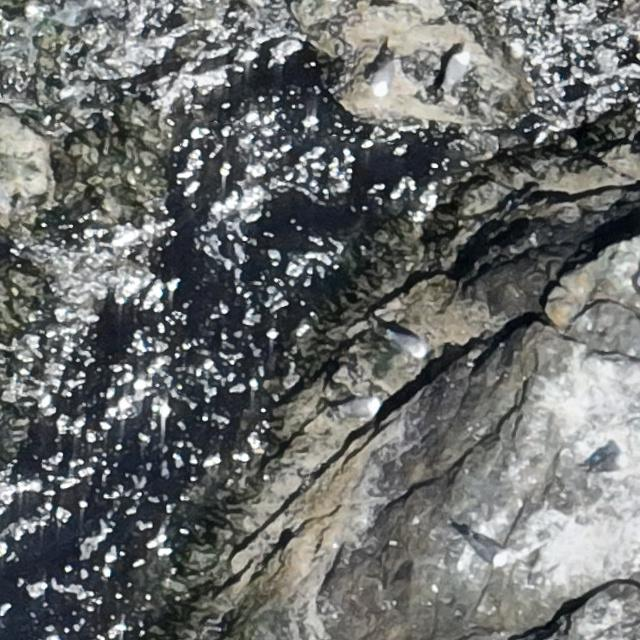umineko: (370, 58, 400, 96), (337, 398, 381, 420), (445, 52, 469, 90), (392, 333, 426, 356), (474, 541, 505, 565), (596, 457, 626, 473)
